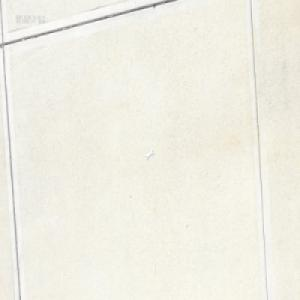Wrench: (145, 150, 153, 160)
